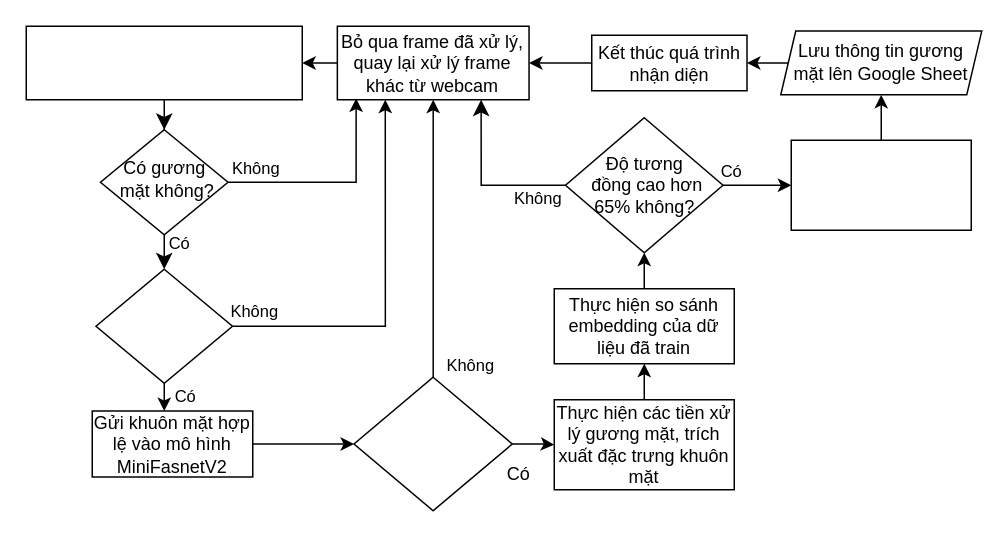
Some shapes in this 1008 by 537 pixel diagram are drawn without their labels. Each missing label, with the box of its shape:
Khuôn mặt có hợp lệ không?: (94, 268, 232, 383)
Lấy thông tin về dữ liệu gương mặt vừa nhận diện được từ database: (790, 139, 971, 230)
Nhận frame gương mặt từ webcam định dạng BGR, chuyển sang RGB, xử lý bằng MTCNN: (25, 25, 302, 100)
Xác suất khuôn mặt thật có hơn 60% không?: (352, 376, 512, 511)
